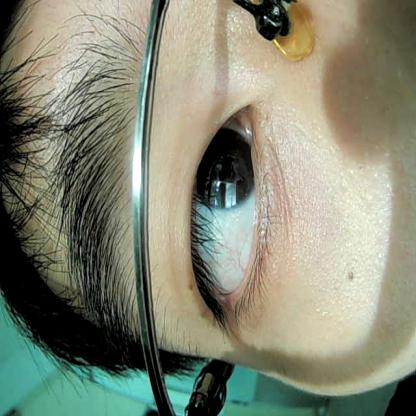Left: (173, 91, 283, 332)
